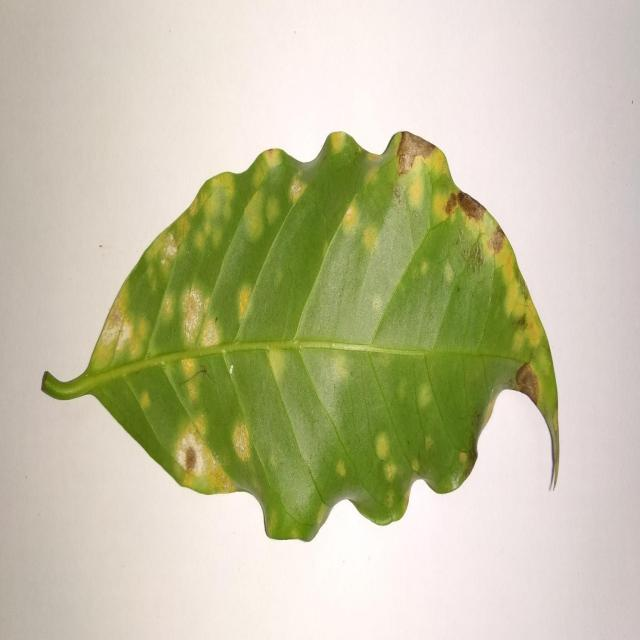rust: (241, 149, 297, 245), (368, 423, 408, 521), (508, 262, 544, 363), (170, 285, 224, 351), (336, 191, 382, 262), (193, 172, 234, 241), (100, 293, 134, 362), (174, 429, 218, 478), (154, 213, 193, 263), (178, 358, 207, 410), (445, 191, 487, 222), (231, 281, 256, 333), (231, 413, 253, 462), (325, 131, 354, 154), (488, 224, 506, 254)
